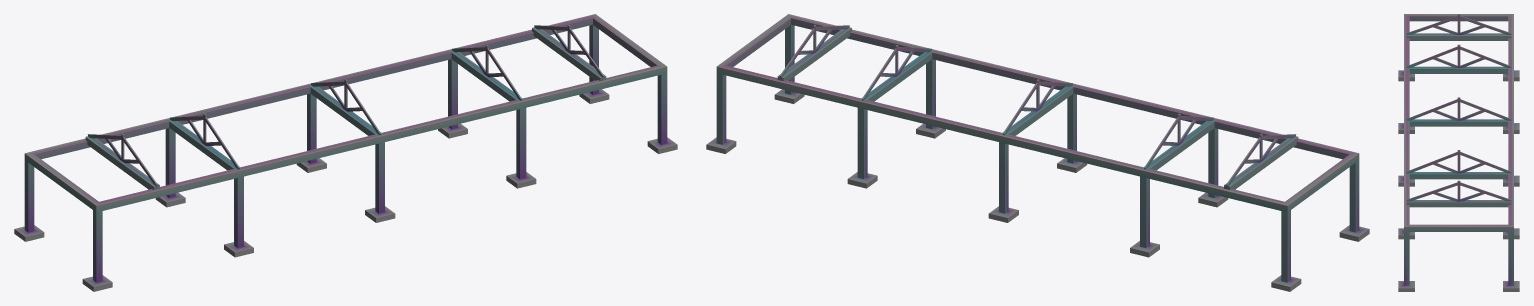
The picture shows the model from 3 angles, left to right: view 1: azimuth 30°, elevation 25°; view 2: azimuth 150°, elevation 25°; view 3: azimuth 270°, elevation 25°; orthographic projection. The views are drawn at different scales.
Visible parts, largest first — view 1: side_rail.001, foot_plate.001, crossbar; view 2: side_rail.001, foot_plate.001, crossbar; view 3: crossbar, side_rail.001, foot_plate.001.
Part boxes in pixels (x1=…): side_rail.001: x1=24, y1=14, x2=667, y2=212; foot_plate.001: x1=14, y1=25, x2=677, y2=291; crossbar: x1=85, y1=24, x2=606, y2=189; side_rail.001: x1=716, y1=14, x2=1359, y2=212; foot_plate.001: x1=706, y1=25, x2=1369, y2=291; crossbar: x1=777, y1=24, x2=1298, y2=189; crossbar: x1=1406, y1=14, x2=1511, y2=207; side_rail.001: x1=1404, y1=14, x2=1513, y2=231; foot_plate.001: x1=1398, y1=70, x2=1519, y2=291.
Bounding box in the file's own units: 5 × 0.9151 × 1.18.
